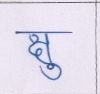u_matra: (39, 63, 64, 80)
